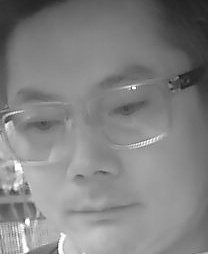eye: (108, 98, 149, 122), (25, 115, 63, 137)
glass: (90, 76, 178, 149), (1, 99, 77, 165)
mouth: (61, 192, 141, 234)
